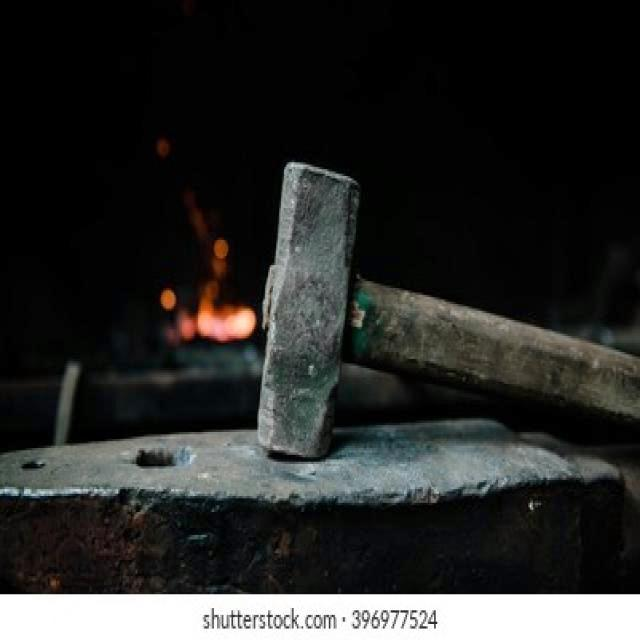hammer: (255, 148, 640, 490)
